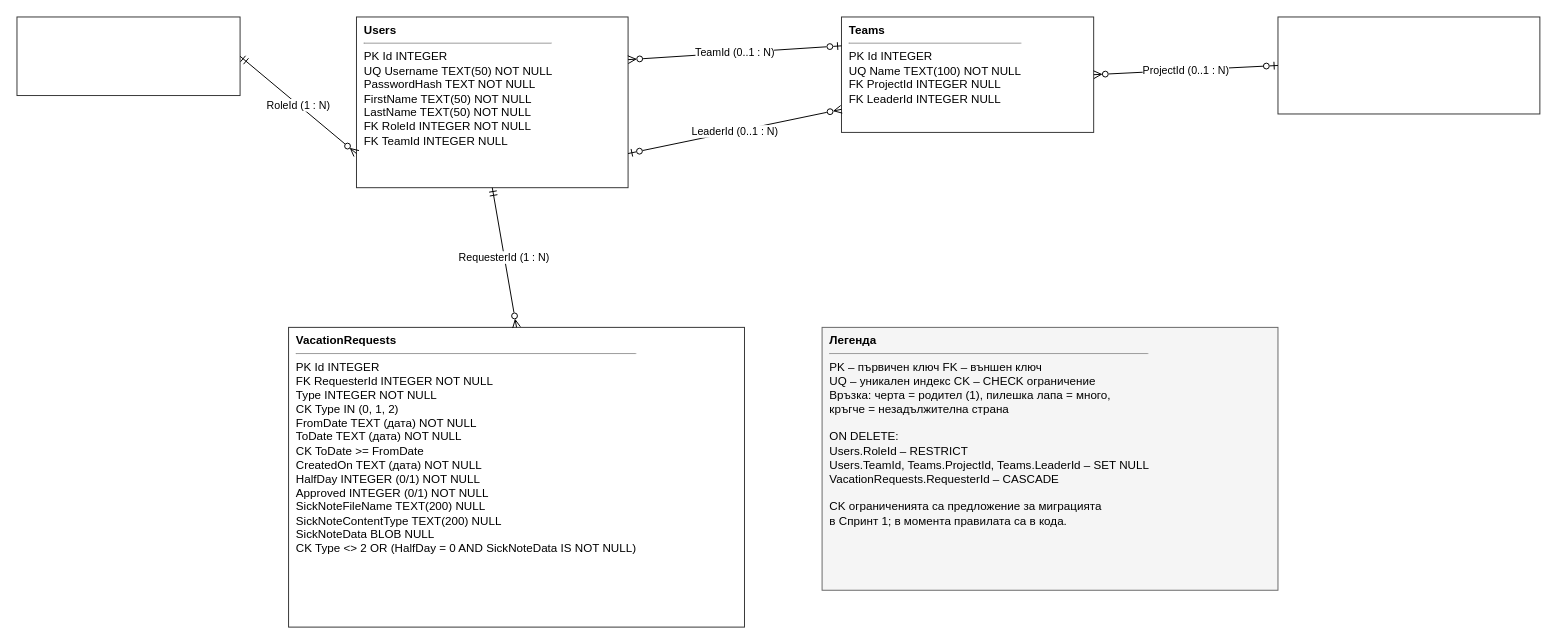
Image size: 1557x644. Some labels were removed from this diagram. The shapes that lost their labels are listed below. From the top down, each one's centre as x and y in pixels, then its label:
(x=128, y=56): Roles PK Id INTEGER UQ Name TEXT(50) NOT NULL
(x=1408, y=65): Projects PK Id INTEGER Name TEXT(100) NOT NULL Description TEXT(500) NOT NULL
